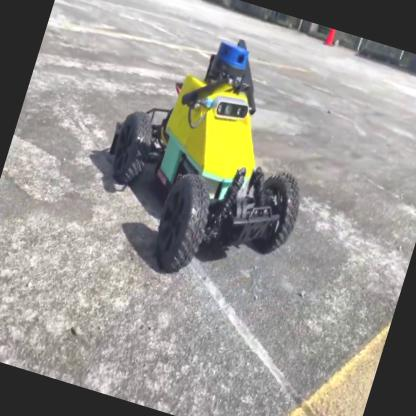cone: (320, 27, 338, 47)
mushr_car: (77, 6, 346, 306)
